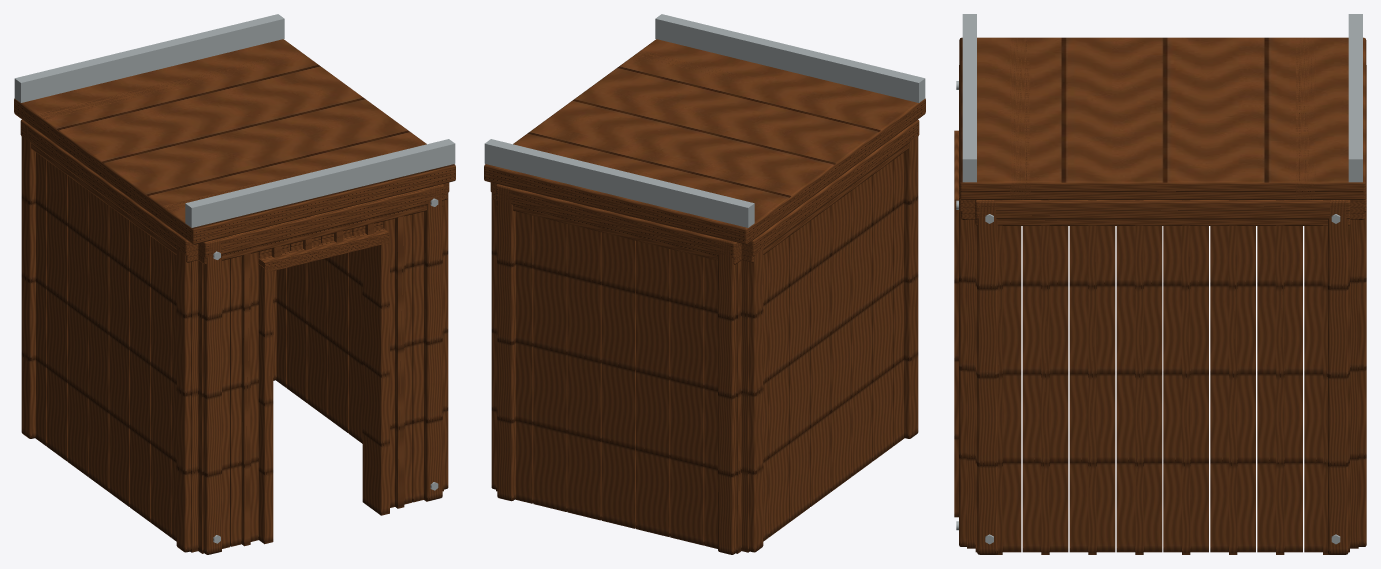
The model's file is roadside-survival-stops-roadside-toilet-shell-fac92926__23551.glb.
3 renders of one model, left to right at view 1: azimuth 30°, elevation 25°; view 2: azimuth 150°, elevation 25°; view 3: azimuth 270°, elevation 25°, orthographic. The views are drawn at different scales.
Parts seen in each view (by area): view 1: roadside-toilet-shell; view 2: roadside-toilet-shell; view 3: roadside-toilet-shell.
Part boxes in pixels (x1=…): roadside-toilet-shell: x1=14, y1=14, x2=455, y2=554; roadside-toilet-shell: x1=484, y1=14, x2=925, y2=554; roadside-toilet-shell: x1=954, y1=14, x2=1366, y2=554.
Size of the model in its own units: 1.67 by 2.1 by 1.98.
Materials: 2 (1 with a texture image).
